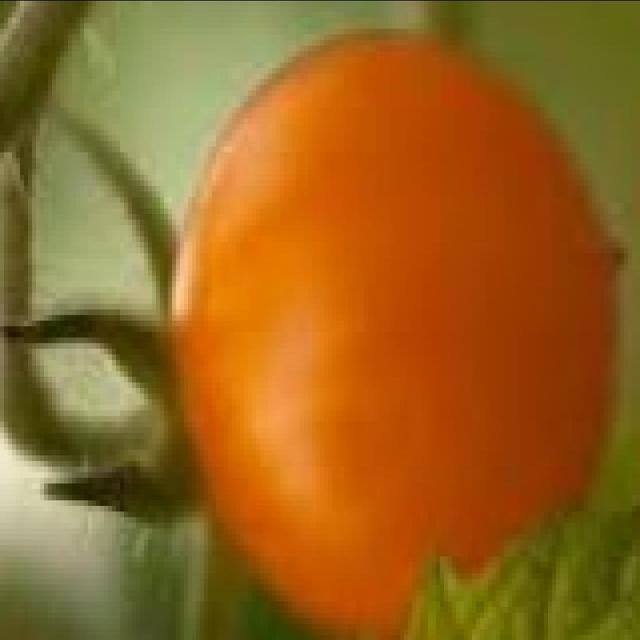Healthy Fruit: (85, 0, 413, 427)
